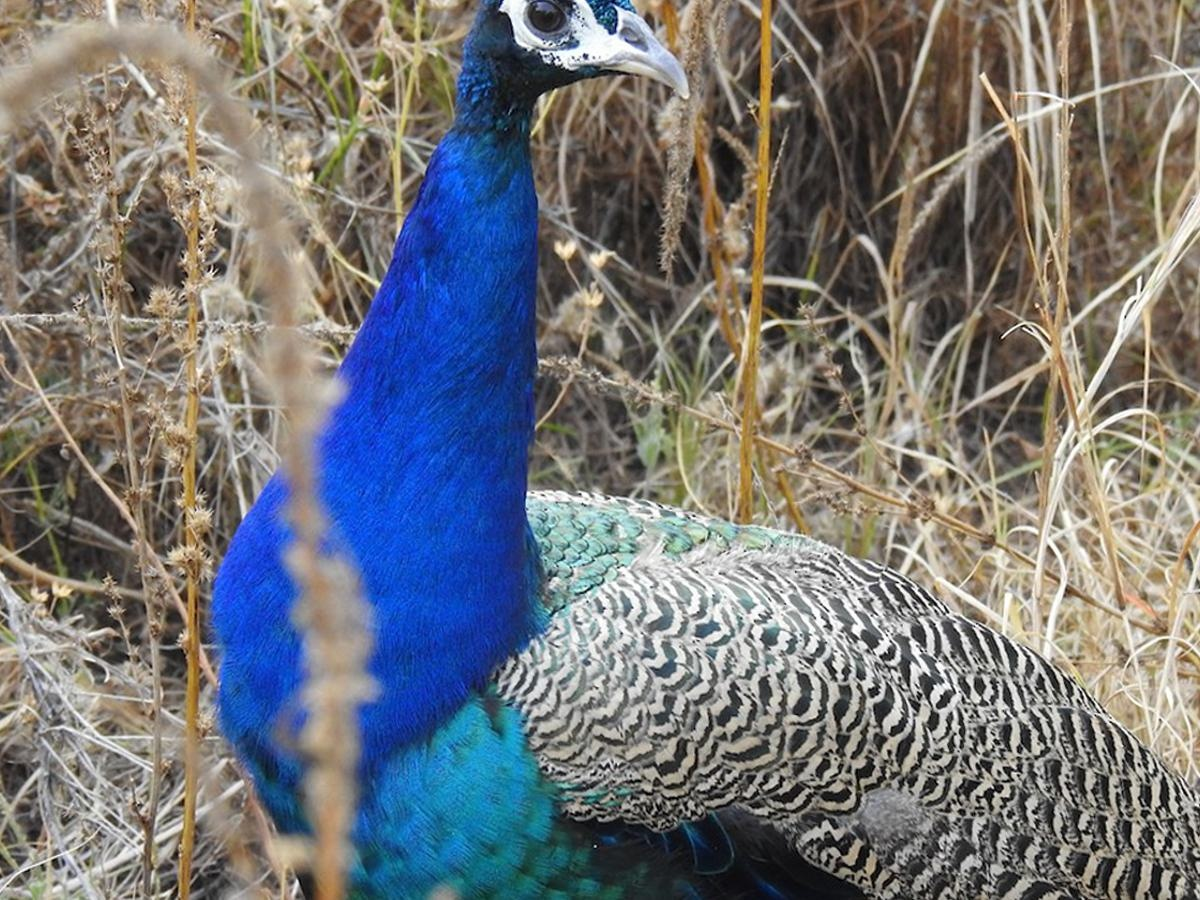peacock: (216, 10, 1134, 900)
